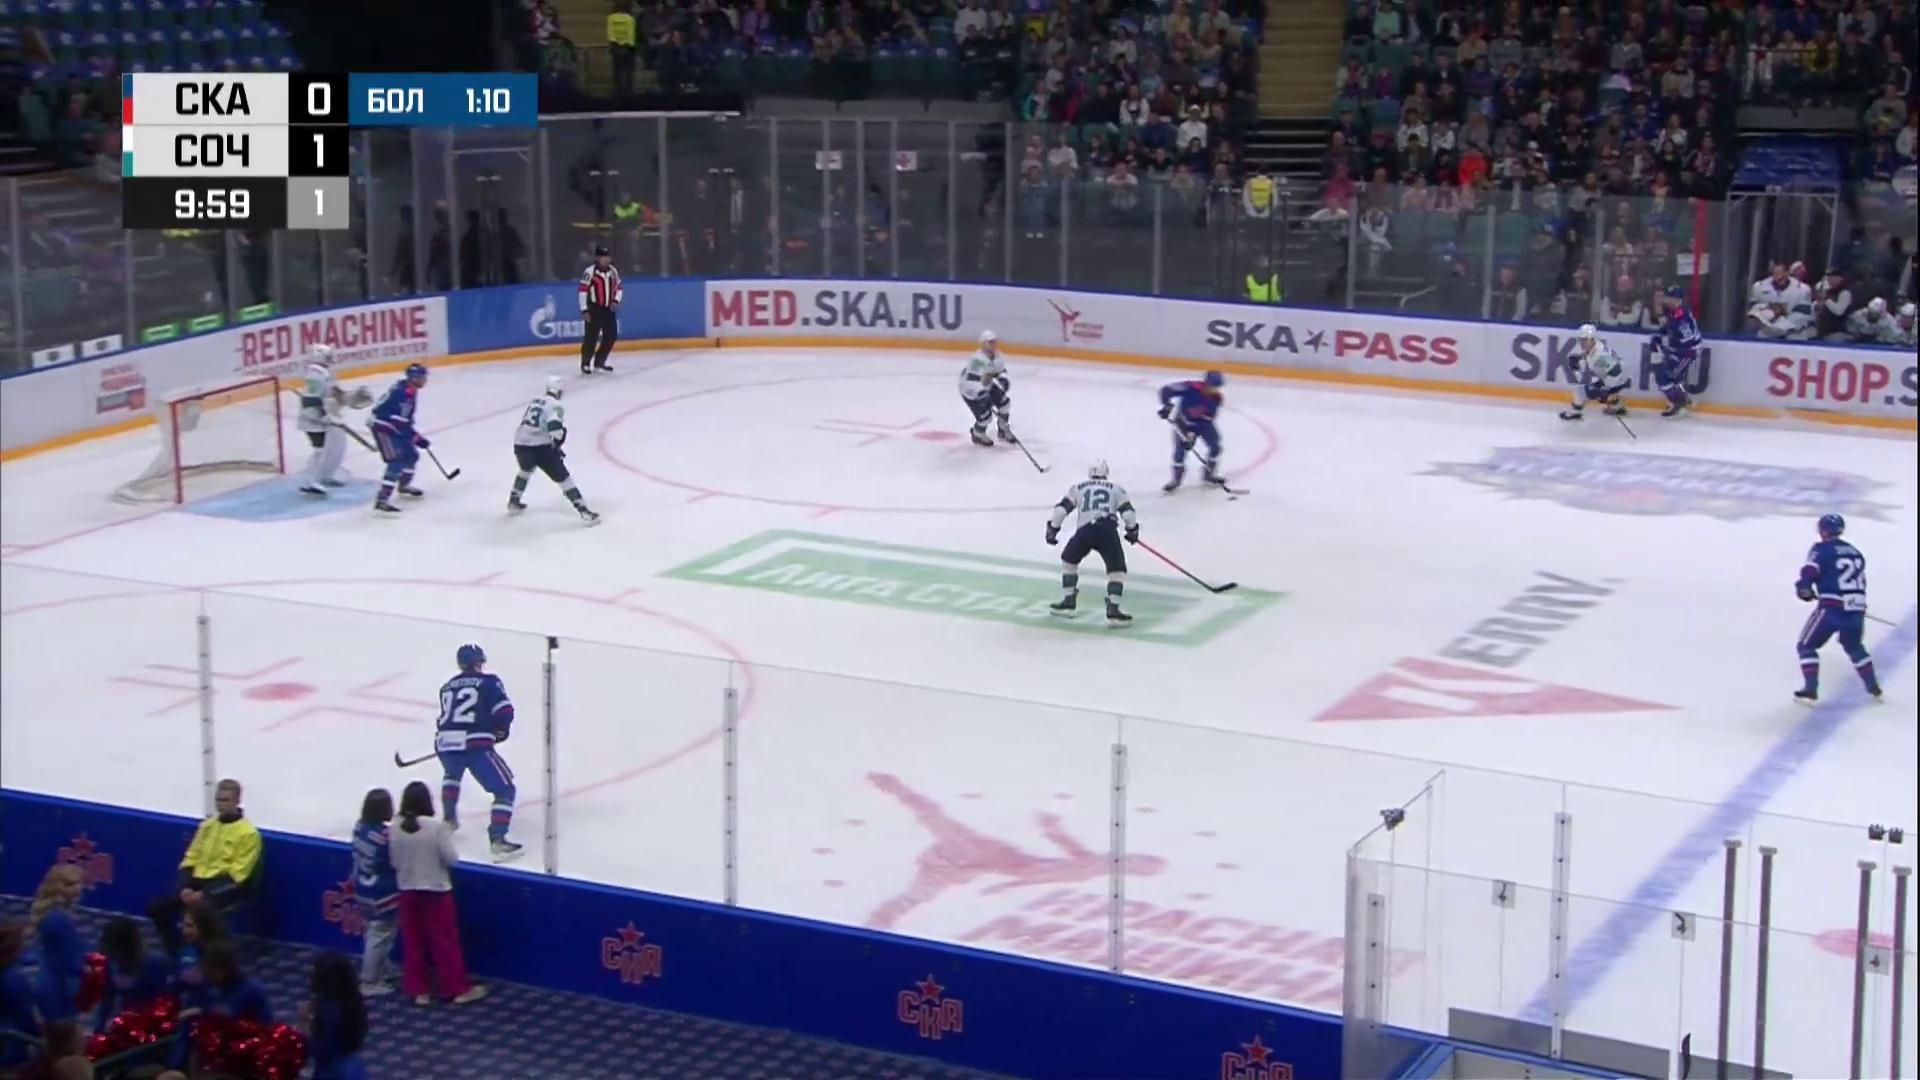ball: (1225, 496, 1238, 501)
